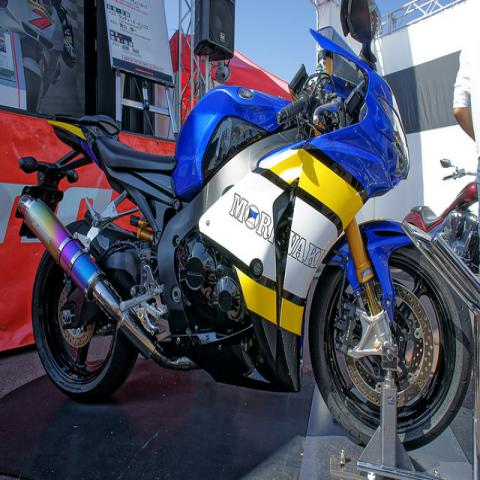motorcycle: (14, 0, 473, 452), (406, 152, 480, 309)
